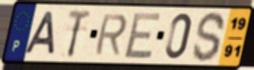0: (164, 12, 193, 61)
A: (23, 10, 56, 56)
E: (122, 11, 164, 60)
R: (92, 13, 129, 57)
S: (191, 10, 228, 64)
T: (65, 9, 93, 60)
